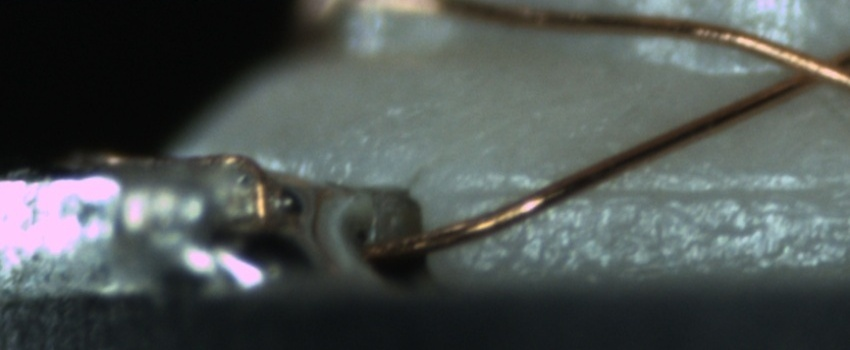CL: (760, 39, 849, 99)
DL: (441, 157, 849, 226)
TE: (85, 147, 278, 231)
